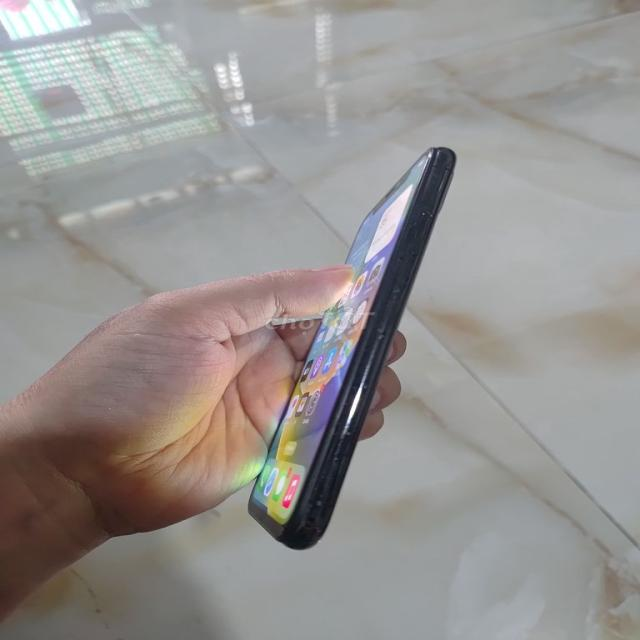scratch: (303, 465, 350, 523), (323, 418, 363, 463), (382, 277, 413, 315), (368, 321, 404, 352)
